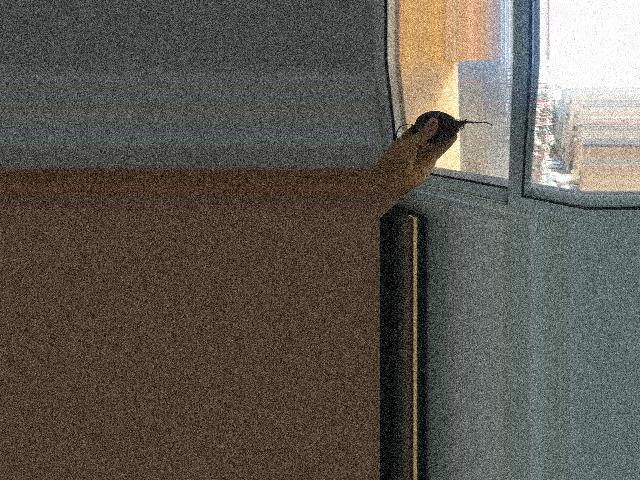beet: (396, 111, 493, 153)
